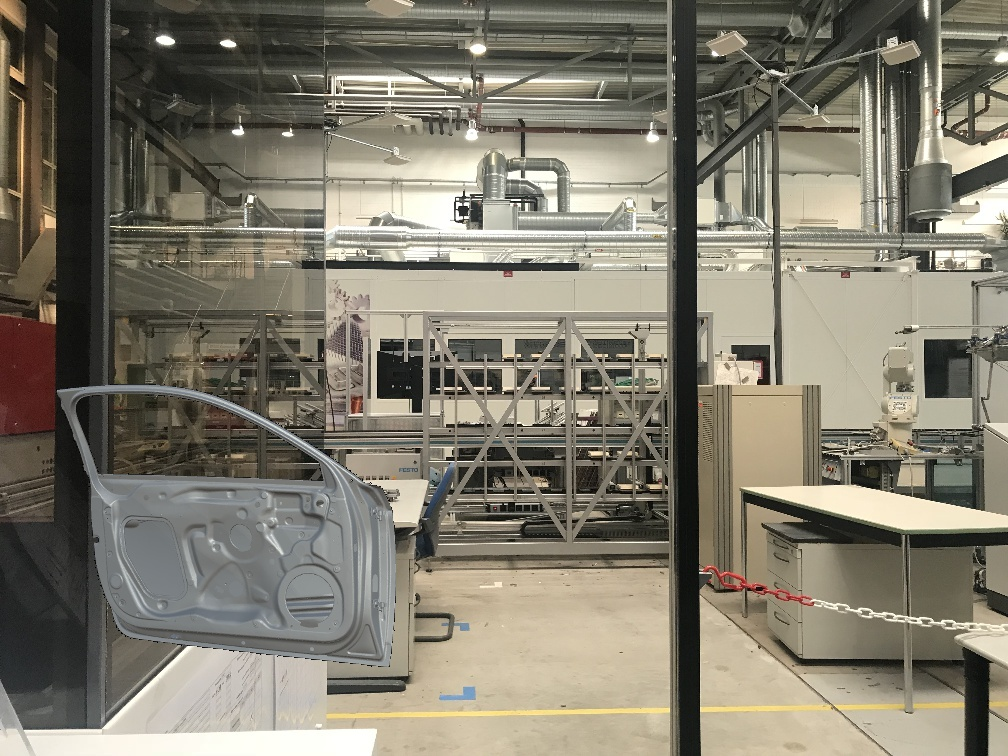car_door: (56, 384, 395, 666)
